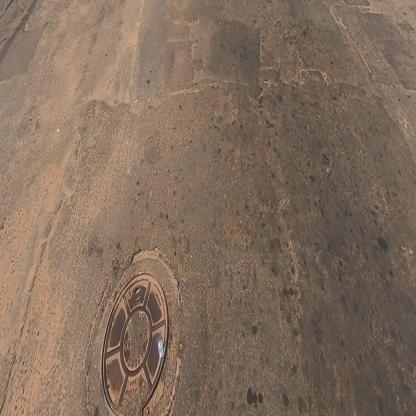manholes: (87, 244, 177, 416)
